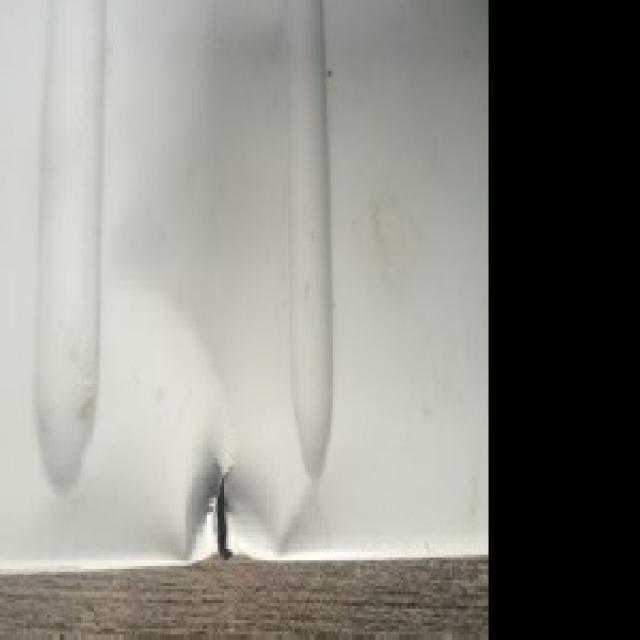crack: (188, 458, 242, 569)
